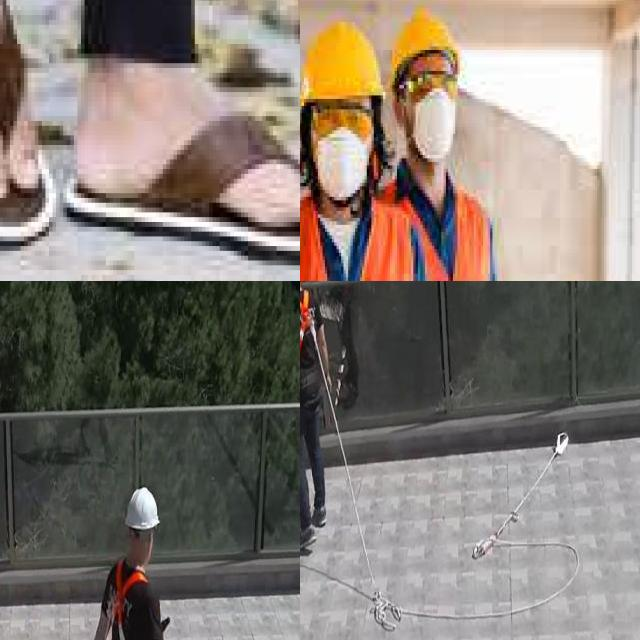Harness: (473, 433, 568, 560), (115, 560, 149, 640), (300, 290, 313, 355)
Sandals: (64, 40, 300, 251)
